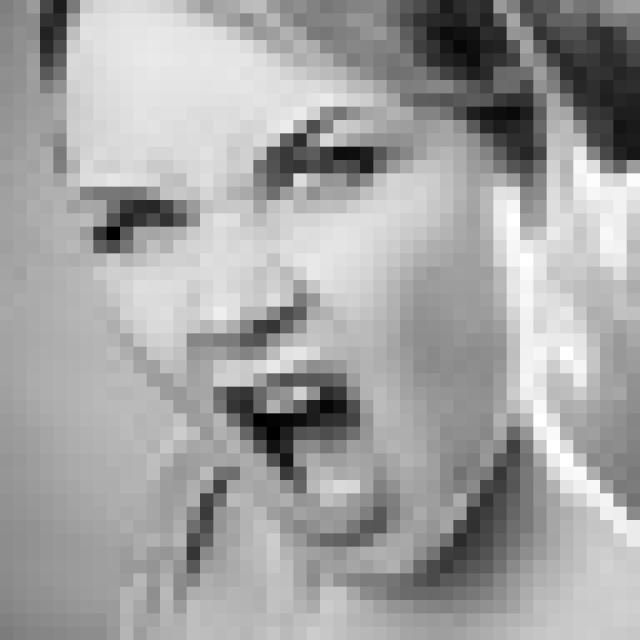angry: (72, 91, 430, 549)
